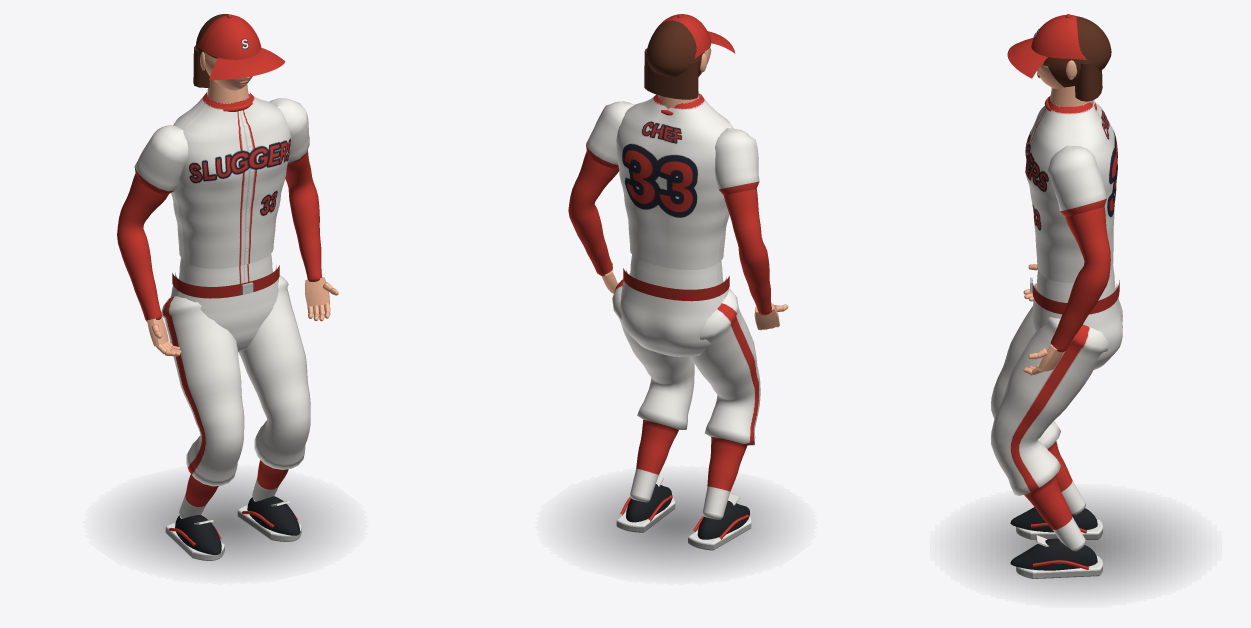
File: player_30_home.glb
3 renders of one model, left to right at view 1: azimuth 30°, elevation 25°; view 2: azimuth 150°, elevation 25°; view 3: azimuth 270°, elevation 25°, orthographic. The views are drawn at different scales.
Visible parts, largest first — view 1: player_30_home, object 31, object 33, object 2; view 2: player_30_home, object 29, object 30, object 31; view 3: player_30_home, object 31, object 29, object 33, object 35, object 30, object 2.
Boxes of the visible parts, box(x1,y1,x2,y2) form: player_30_home: box(116, 92, 334, 570); object 31: box(197, 15, 261, 59); object 33: box(209, 47, 285, 80); object 2: box(207, 80, 248, 102); player_30_home: box(568, 94, 784, 570); object 29: box(646, 20, 710, 76); object 30: box(644, 48, 698, 99); object 31: box(654, 14, 711, 58); player_30_home: box(965, 95, 1186, 592); object 31: box(1031, 14, 1087, 60); object 29: box(1046, 16, 1111, 70); object 33: box(1007, 37, 1047, 78); object 35: box(1037, 58, 1099, 88); object 30: box(1075, 61, 1102, 101); object 2: box(1050, 86, 1093, 106).
Bounding box in the file's own units: 3.3 × 6.1 × 3.3.
Materials: 27 (5 with a texture image).
